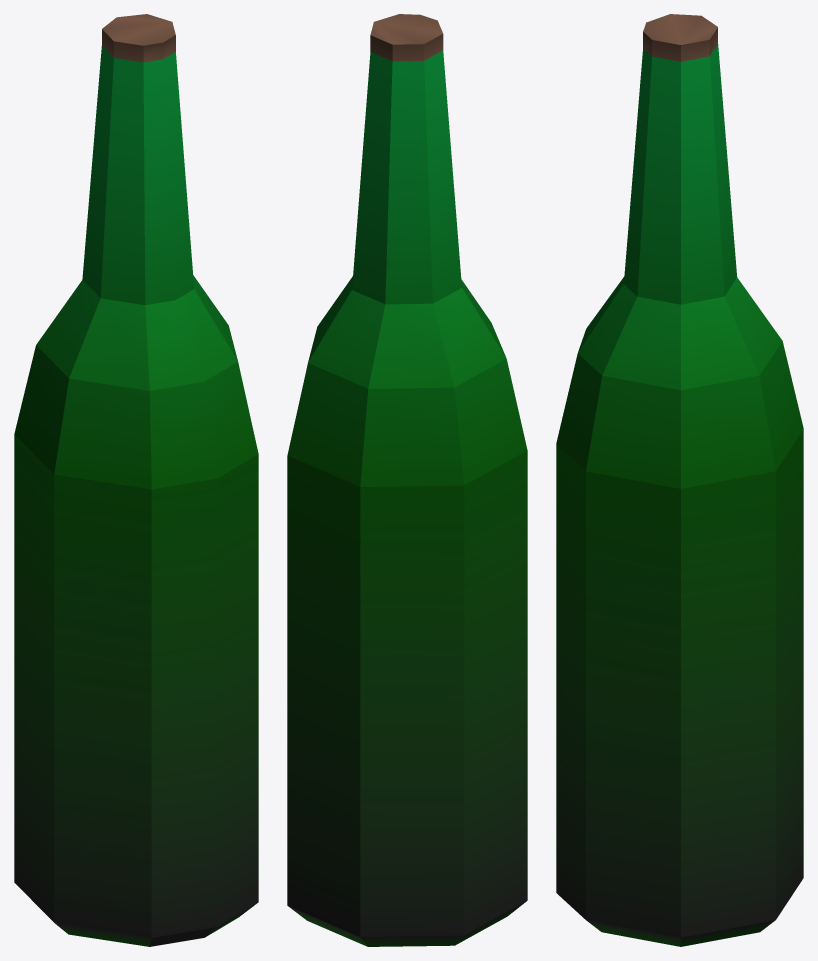
The model's file is Prop_WineBottleC.fbx.
The picture shows the model from 3 angles, left to right: view 1: azimuth 30°, elevation 25°; view 2: azimuth 150°, elevation 25°; view 3: azimuth 270°, elevation 25°; orthographic projection.
Parts seen in each view (by area): view 1: Prop_WineBottleC; view 2: Prop_WineBottleC; view 3: Prop_WineBottleC.
Boxes of the visible parts, x1,y1,x2,y2 form: Prop_WineBottleC: [14, 14, 258, 946]; Prop_WineBottleC: [287, 14, 527, 946]; Prop_WineBottleC: [556, 14, 803, 946].
Bounding box in the file's own units: 8.4 × 33.31 × 8.55.
